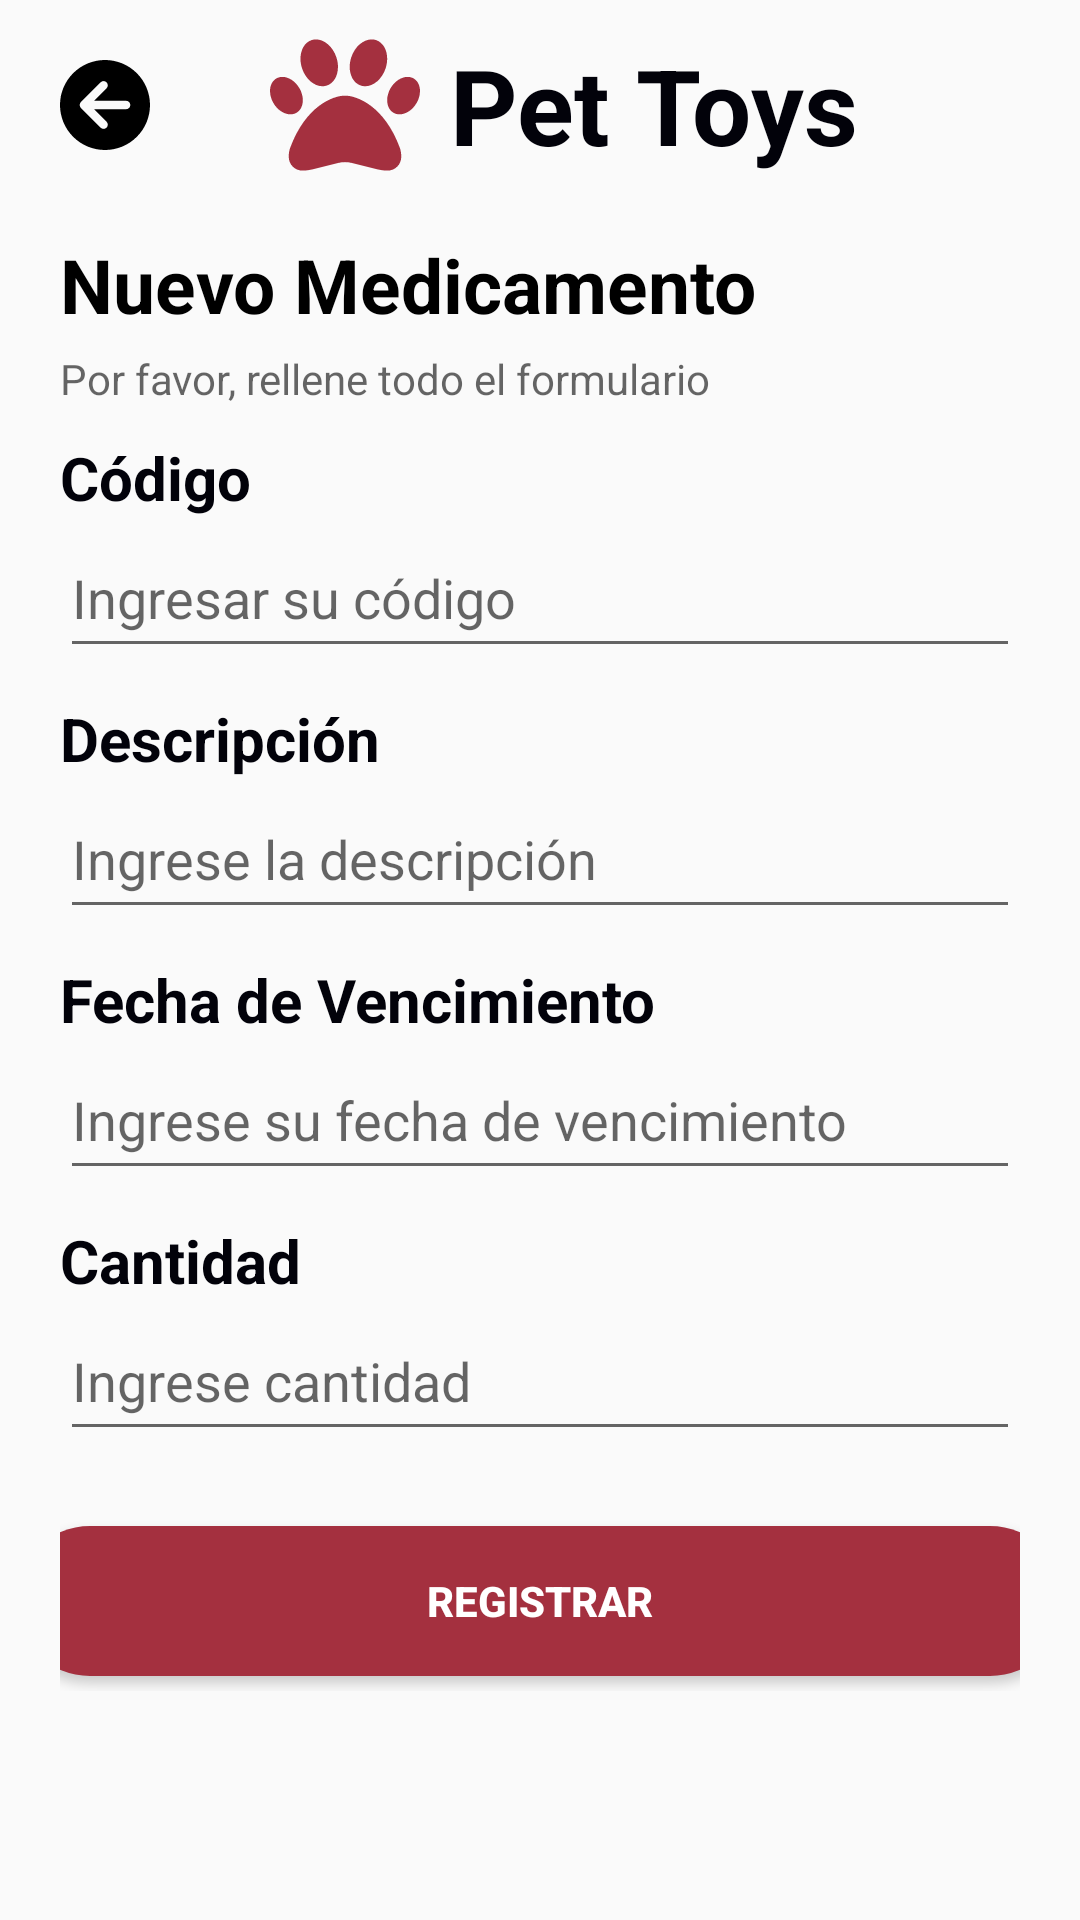

Where to tap for icons on this 1080px x 1920px app screen, as (x,y):
paw: (345,105)
